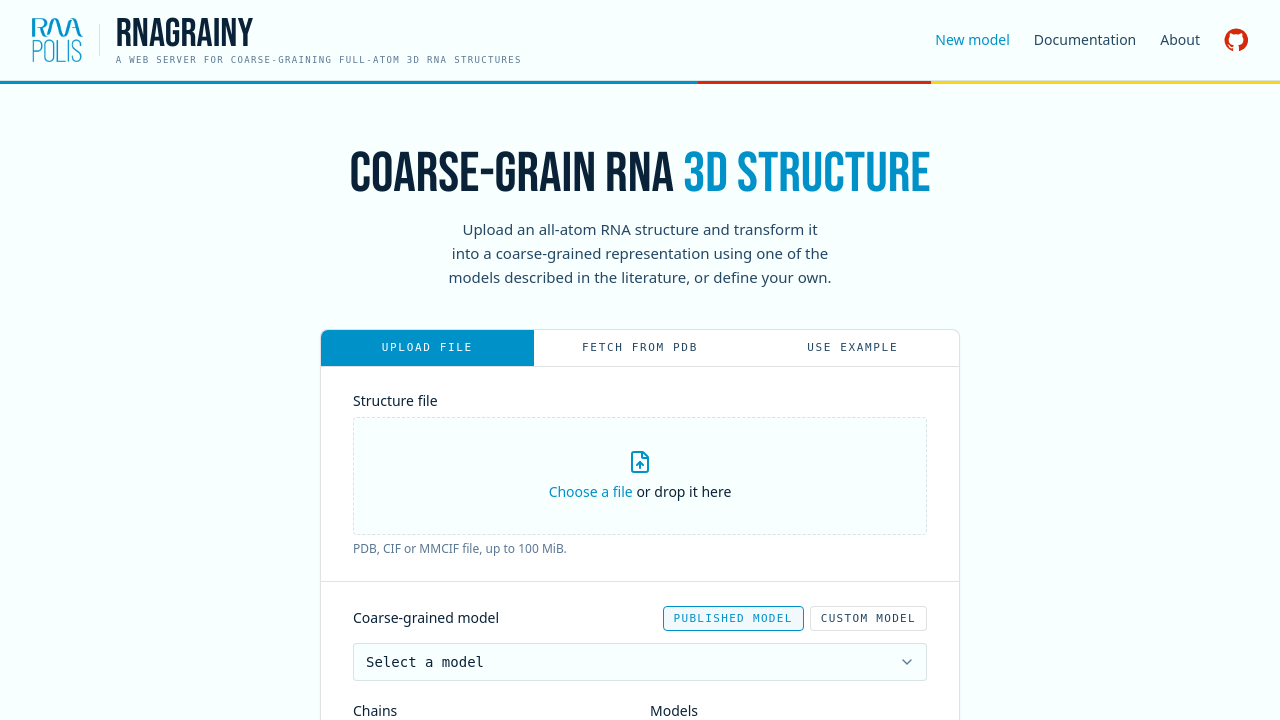
Test: routes › navigates between pages and marks the active link
Click the link "Documentation".
click(1085, 40)  # box [1034, 30, 1136, 50]
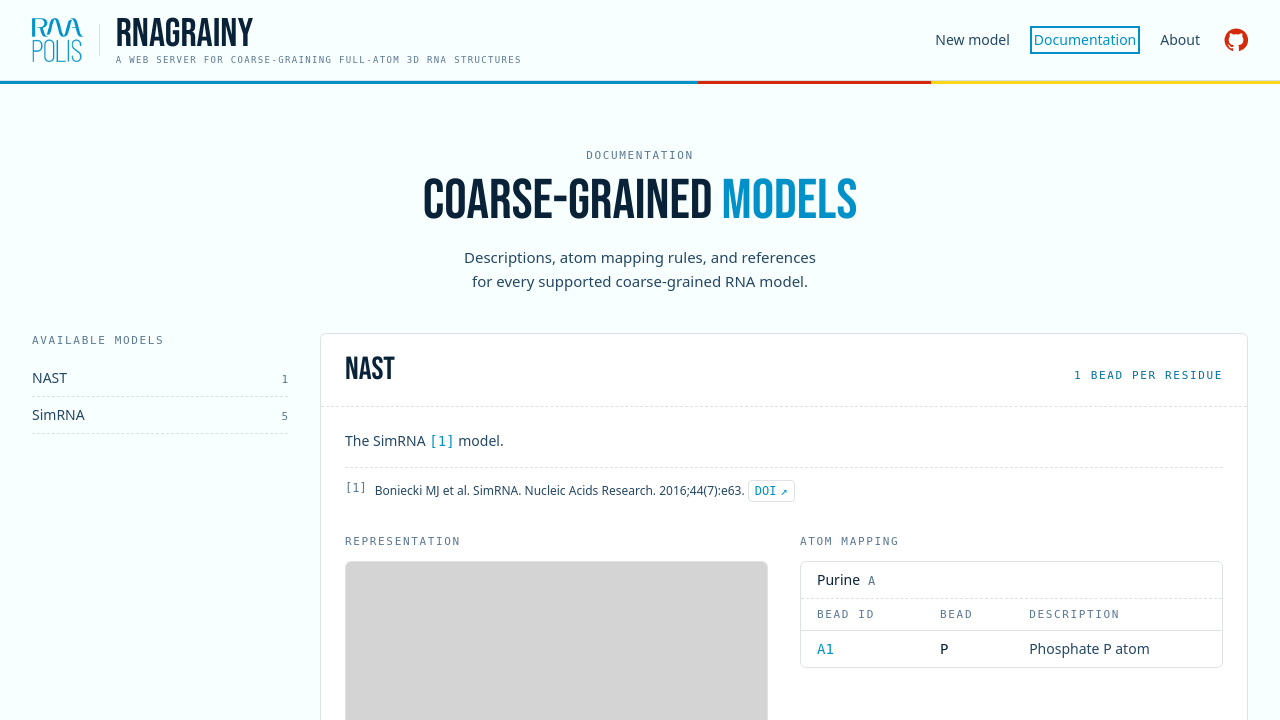
Expected: the heading "Coarse-grained models" is shown, [423, 168, 857, 235]
